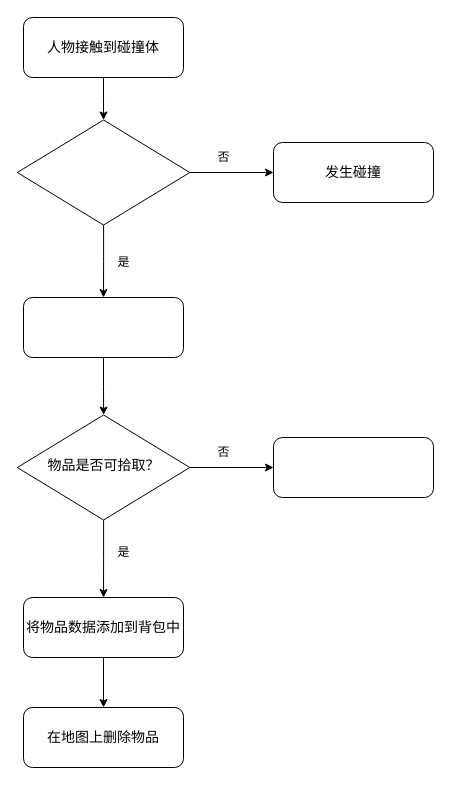
Image size: 452x785. Some labels were removed from this diagram. Here are the shapes that lost their labels. From the top down, the centre of each, then its label:
At [103,172]: "是否可是物品（有Item）？".
At [103,327]: "获取物品的item组件".
At [353,467]: "Null".
